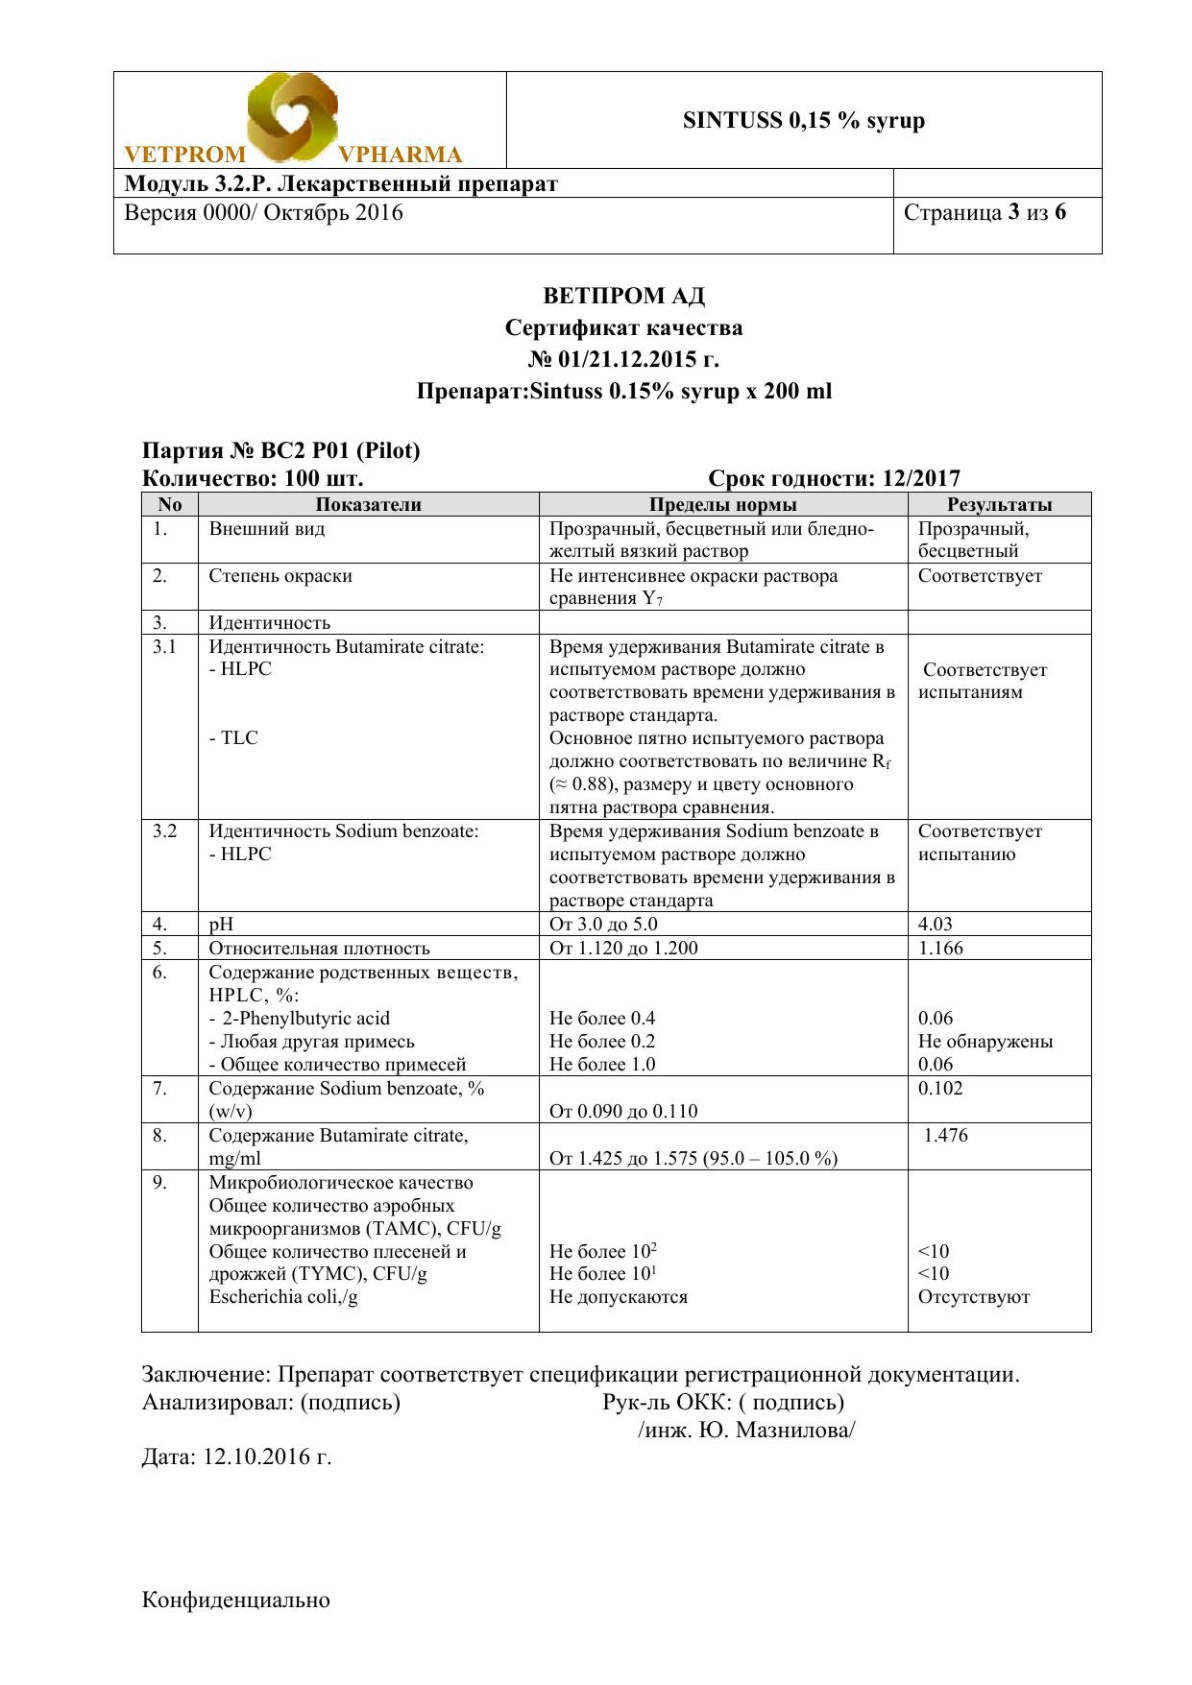full_lined: (139, 490, 1093, 1335)
merged_cells: (111, 70, 1104, 255)
